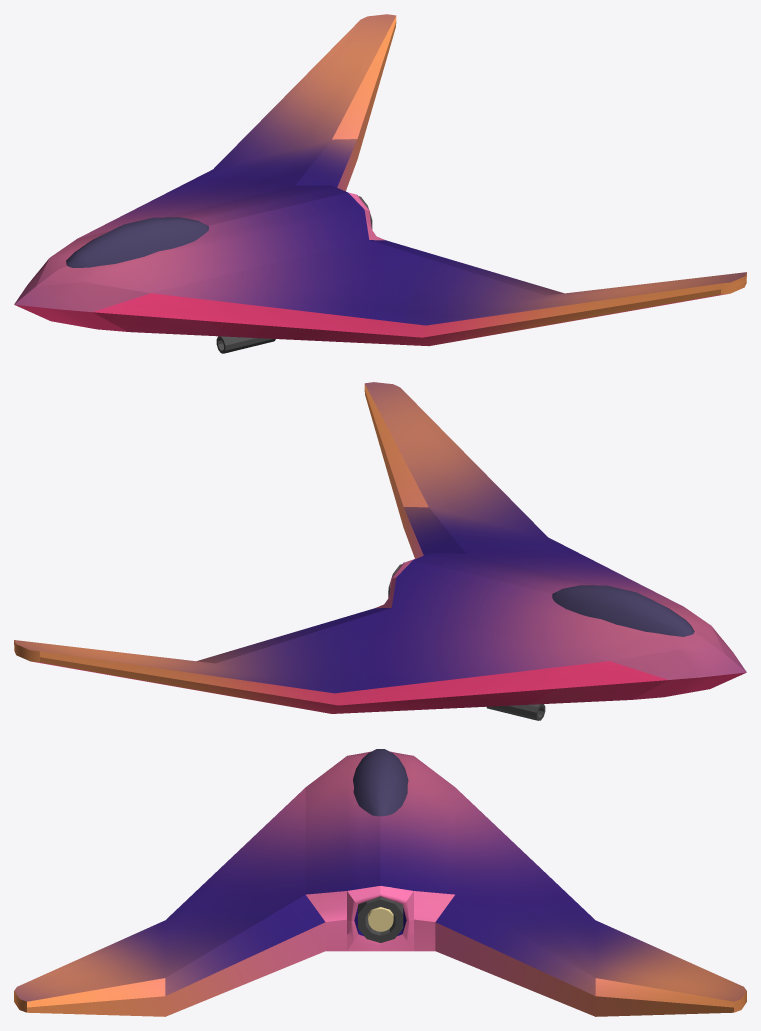
Rendered from jet.fbx.
3 views of the same model, one above another, from view 1: azimuth 30°, elevation 25°; view 2: azimuth 150°, elevation 25°; view 3: azimuth 270°, elevation 25° (orthographic).
Parts seen in each view (by area): view 1: fighterjet:jetBody, fighterjet:dome, fighterjet:cannon1; view 2: fighterjet:jetBody, fighterjet:dome, fighterjet:cannon2; view 3: fighterjet:jetBody, fighterjet:dome, fighterjet:exhaust, engine.
Boxes of the visible parts, left/top/right/bottom form: fighterjet:jetBody: left=14, top=14, right=746, bottom=346; fighterjet:dome: left=66, top=217, right=208, bottom=267; fighterjet:cannon1: left=216, top=336, right=275, bottom=353; fighterjet:jetBody: left=14, top=382, right=746, bottom=713; fighterjet:dome: left=552, top=585, right=694, bottom=636; fighterjet:cannon2: left=486, top=704, right=545, bottom=720; fighterjet:jetBody: left=14, top=751, right=746, bottom=1016; fighterjet:dome: left=353, top=749, right=408, bottom=816; fighterjet:exhaust: left=358, top=896, right=403, bottom=942; engine: left=368, top=907, right=393, bottom=931.
Bounding box in the file's own units: 3.07 × 0.5193 × 3.46.
